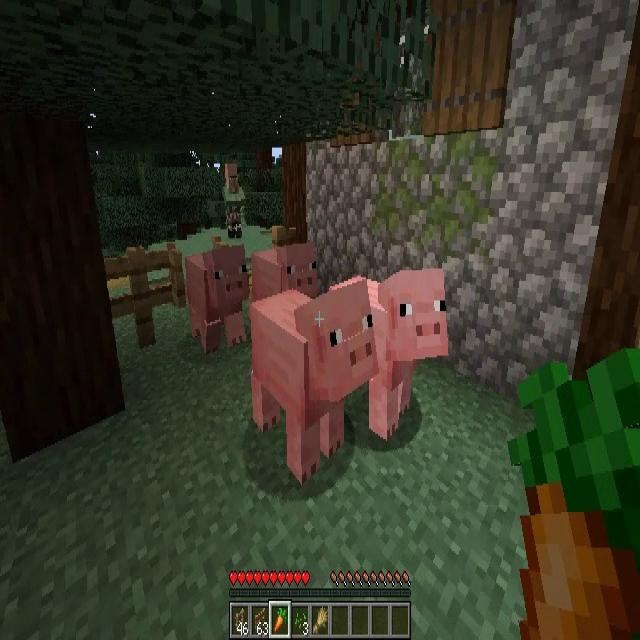people: (222, 162, 246, 238)
pig: (252, 282, 379, 474), (347, 268, 448, 438), (186, 248, 248, 348), (251, 240, 319, 318)
